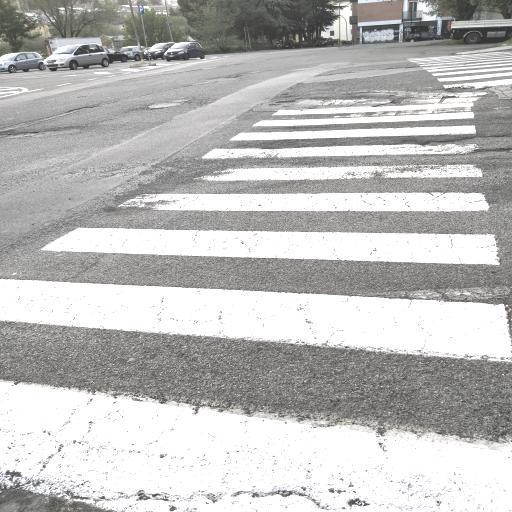crosswalk: (34, 188, 503, 272), (217, 106, 480, 145)
